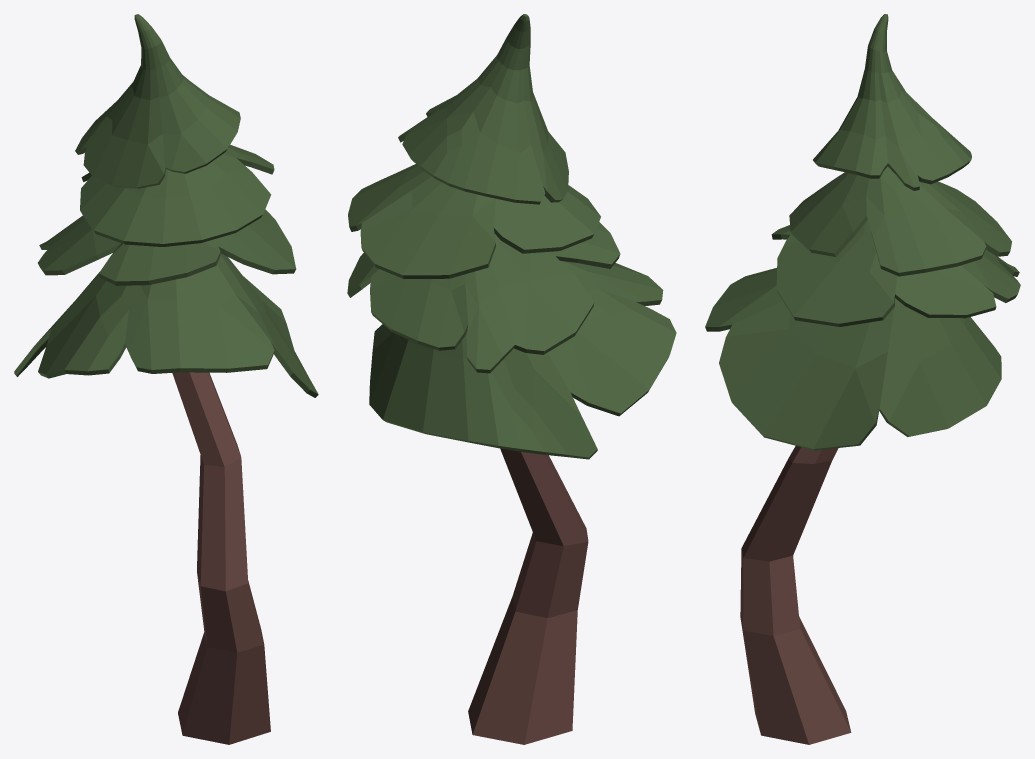
File: pine4.glb
3 renders of one model, left to right at view 1: azimuth 30°, elevation 25°; view 2: azimuth 150°, elevation 25°; view 3: azimuth 270°, elevation 25°, orthographic. The views are drawn at different scales.
Visible parts, largest first — view 1: PineTree_4; view 2: PineTree_4; view 3: PineTree_4.
Part boxes in pixels (x1=…): PineTree_4: x1=14, y1=14, x2=318, y2=744; PineTree_4: x1=347, y1=14, x2=676, y2=744; PineTree_4: x1=705, y1=14, x2=1020, y2=744.
Size of the model in its own units: 1.25 by 3.34 by 1.39.
